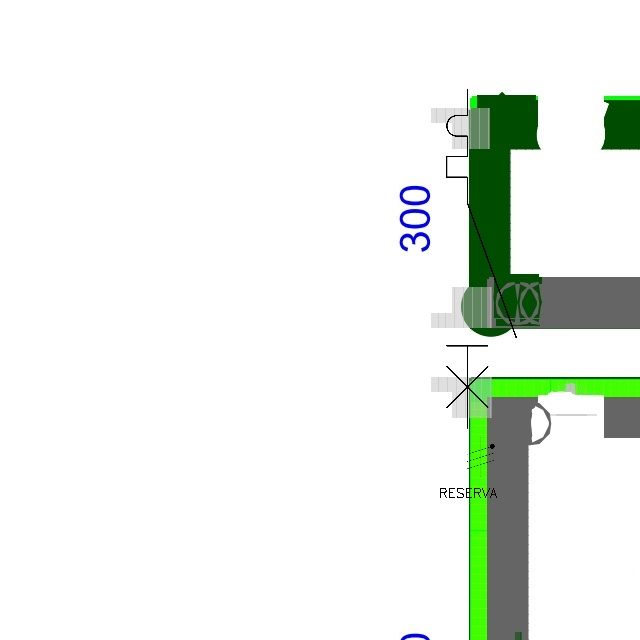interruptor_termomagnetico: (438, 81, 525, 437)
